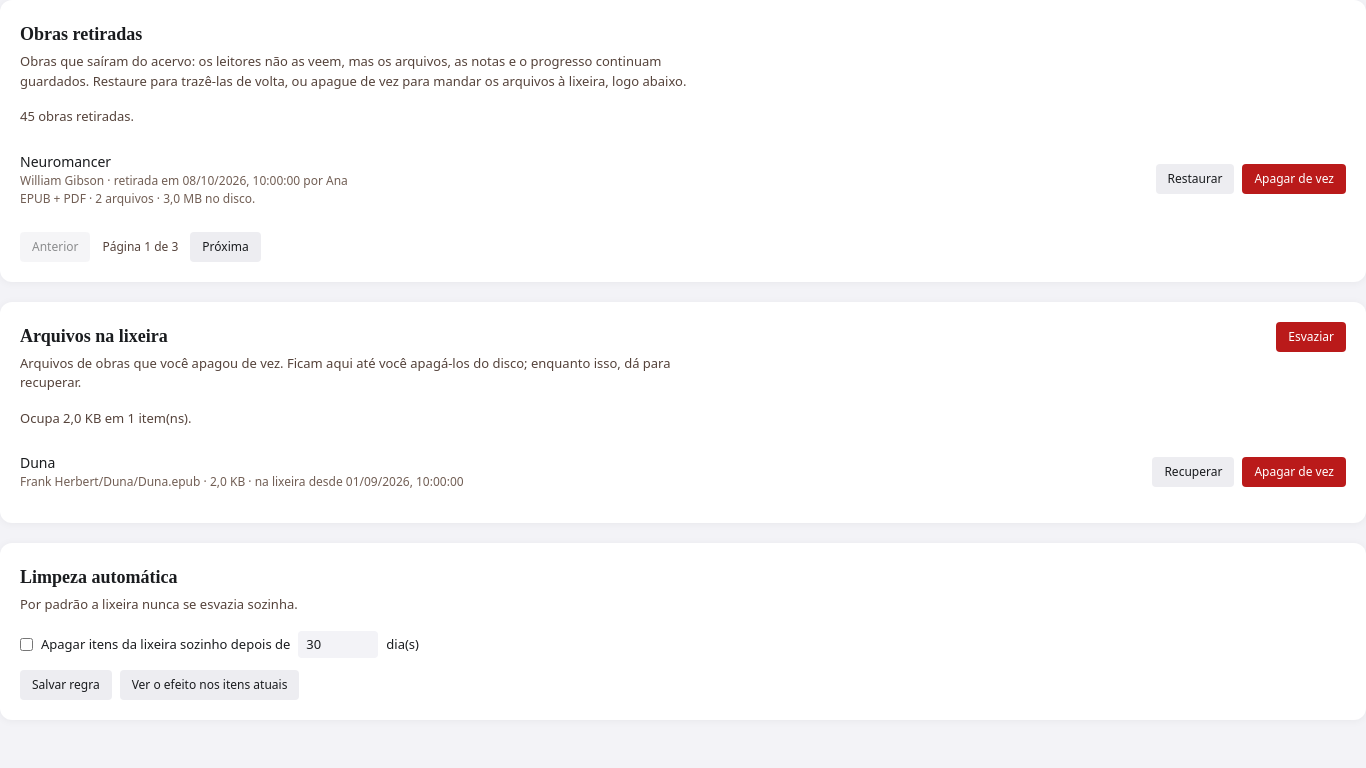
Test case: TrashTab: the works that were retired (#89) › turns the pages of the list, a page asks for the next one, and the first has no way back
The image size is (1366, 768).
expect the navigation bar named "Páginas das obras retiradas" shows "Página 1 de 3": met, box [20,232,261,262]
expect the button "Anterior" is disabled: met, box [20,232,90,262]
Click the button "Próxima": click(226, 246) [190,232,261,262]
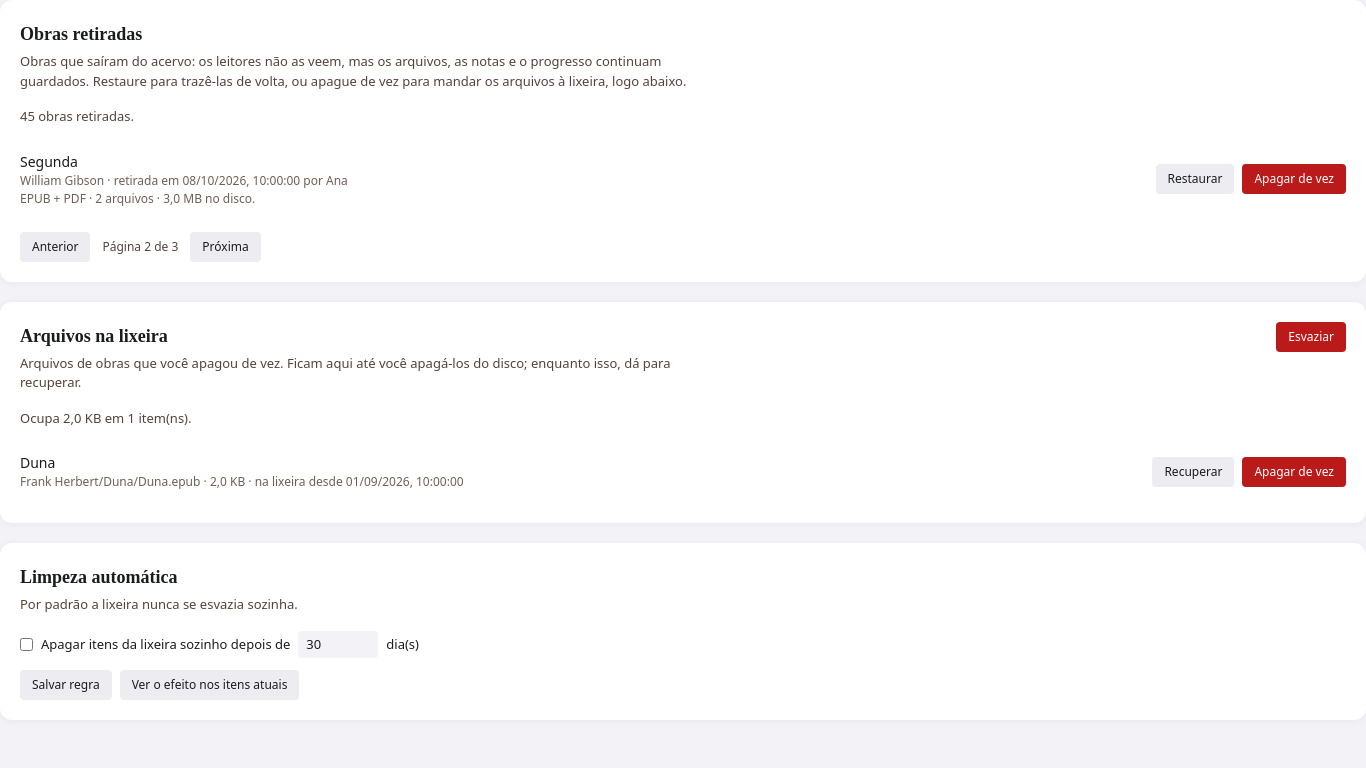
expect the list item that starts with "Segunda" is shown: met, box [20,152,78,170]
expect the navigation bar named "Páginas das obras retiradas" shows "Página 2 de 3": met, box [20,232,261,262]
expect the button "Anterior" is enabled: met, box [20,232,90,262]
